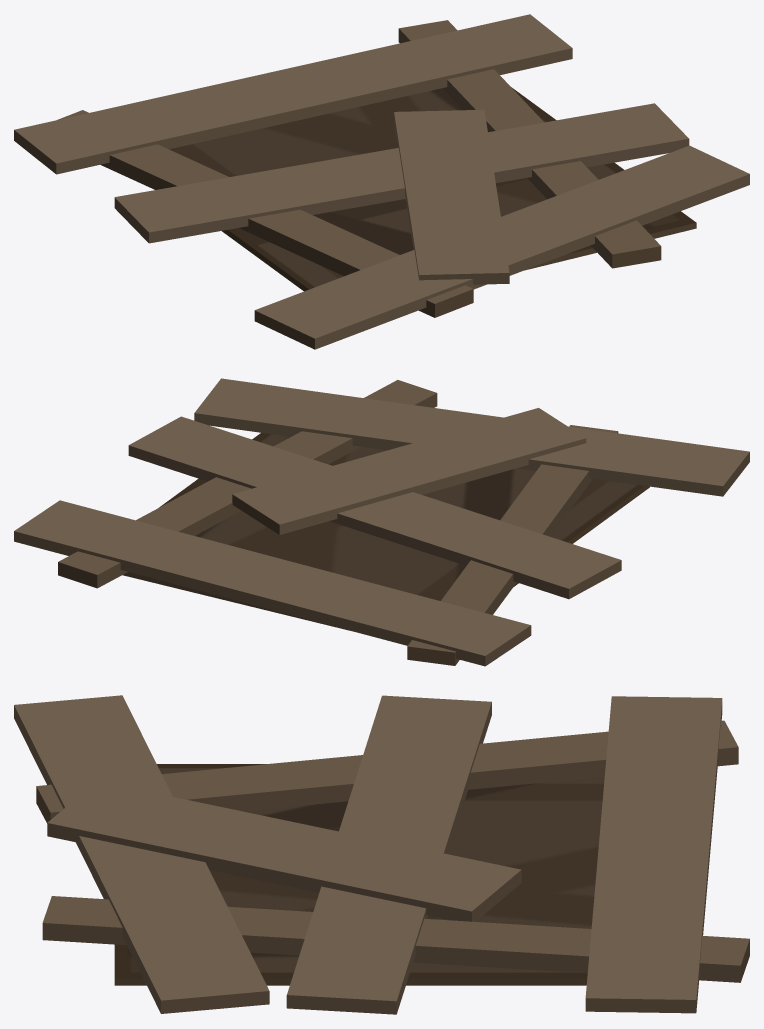
File: SD_Env_Goblin_Platform_Small_03.fbx
3 views of the same model, one above another, from view 1: azimuth 30°, elevation 25°; view 2: azimuth 150°, elevation 25°; view 3: azimuth 270°, elevation 25° (orthographic). The views are drawn at different scales.
Visible parts, largest first — view 1: SD_Env_Goblin_Platform_Small_03; view 2: SD_Env_Goblin_Platform_Small_03; view 3: SD_Env_Goblin_Platform_Small_03.
Boxes of the visible parts, <box> form: SD_Env_Goblin_Platform_Small_03: <box>14,14,749,349</box>; SD_Env_Goblin_Platform_Small_03: <box>14,378,749,666</box>; SD_Env_Goblin_Platform_Small_03: <box>14,695,749,1014</box>.
Size of the model in its own units: 5.36 by 0.2819 by 5.45.
